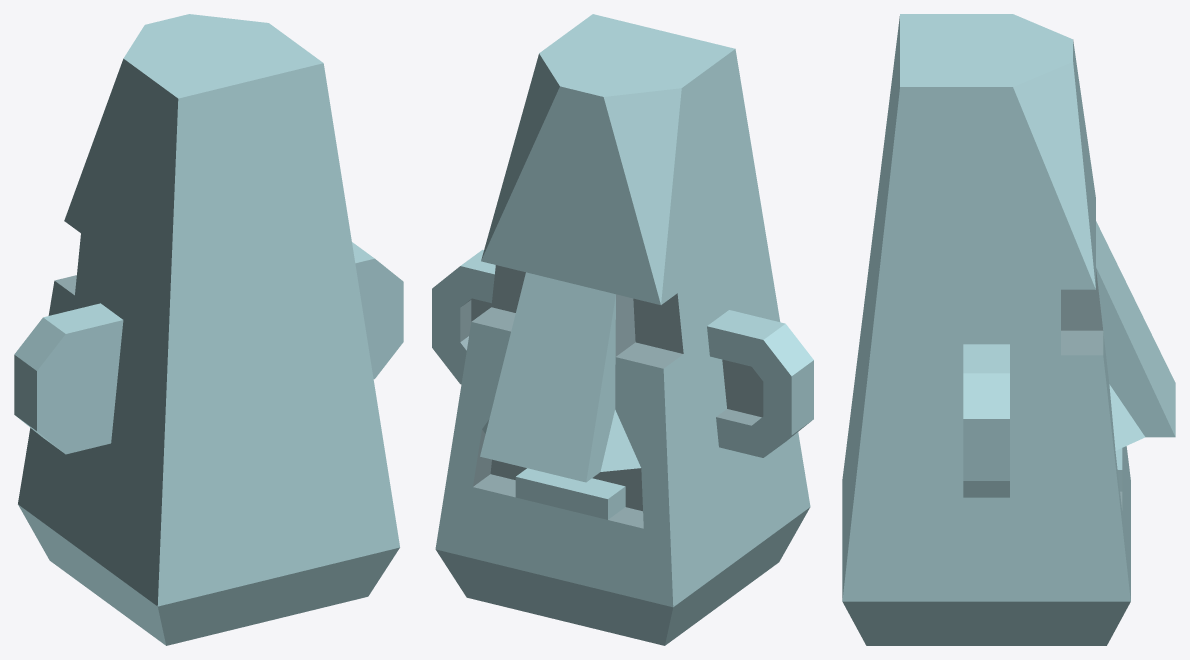
The model's file is d_kenney_tete_de_pierre.glb.
3 views of the same model, side by side, from view 1: azimuth 30°, elevation 25°; view 2: azimuth 150°, elevation 25°; view 3: azimuth 270°, elevation 25° (orthographic). The views are drawn at different scales.
Parts seen in each view (by area): view 1: d_kenney_tete_de_pierre; view 2: d_kenney_tete_de_pierre; view 3: d_kenney_tete_de_pierre.
Boxes of the visible parts, x1,y1,x2,y2 form: d_kenney_tete_de_pierre: (14, 14, 403, 645); d_kenney_tete_de_pierre: (432, 14, 813, 645); d_kenney_tete_de_pierre: (842, 14, 1175, 645).
Size of the model in its own units: 0.726 by 1 by 0.5544.
Materials: 1 (1 with a texture image).
